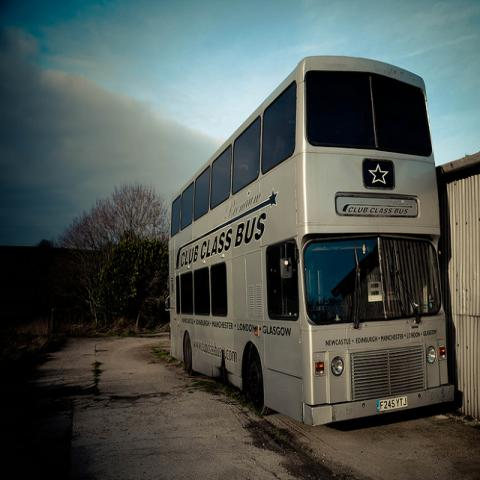bus: (168, 57, 454, 426)
